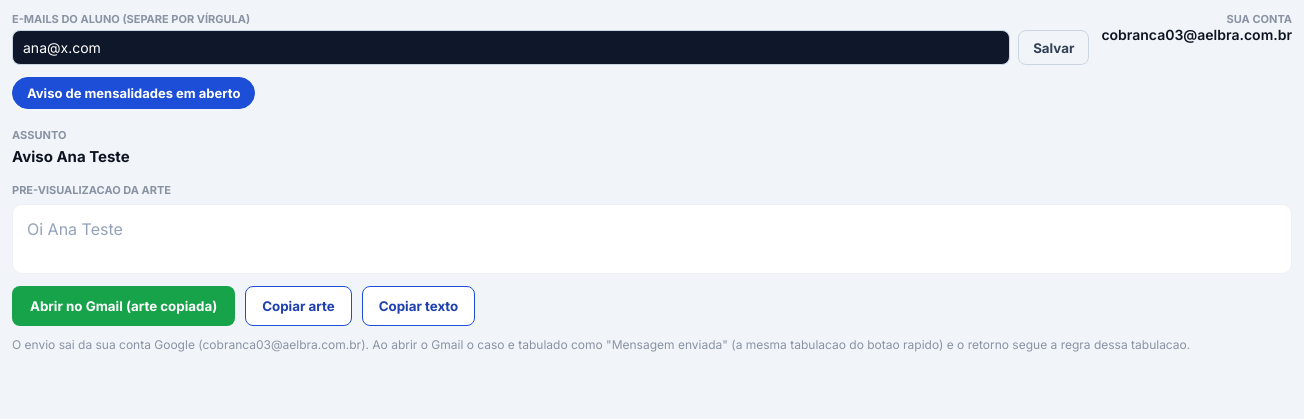
Test: EmailAlunoUnificado › quando o banco recusa o status, avisa na tela e não finge que tabulou
Click the button "Abrir no Gmail (arte copiada)" at (124, 306), box left=12, top=286, right=235, bottom=326
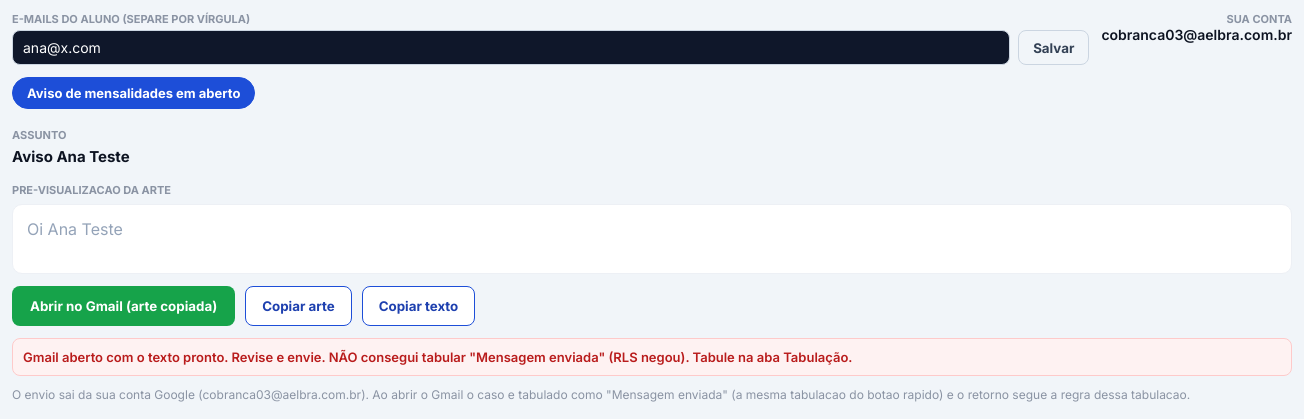
Now the text "NÃO consegui tabular \"Mensagem enviada\" (RLS negou)" is shown, box left=23, top=349, right=852, bottom=365
